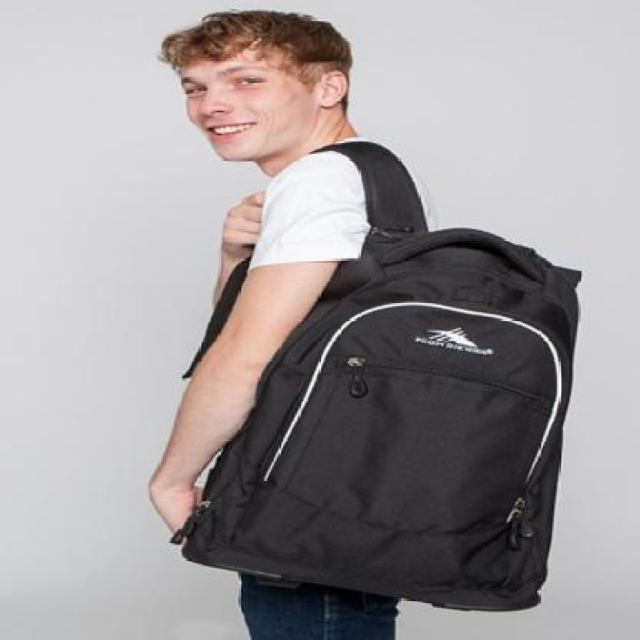backpack: (178, 220, 591, 614)
